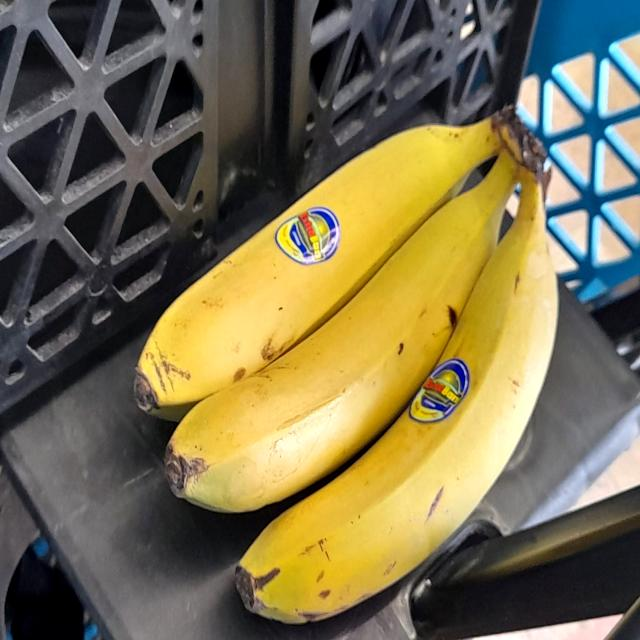banana: (131, 101, 524, 422)
